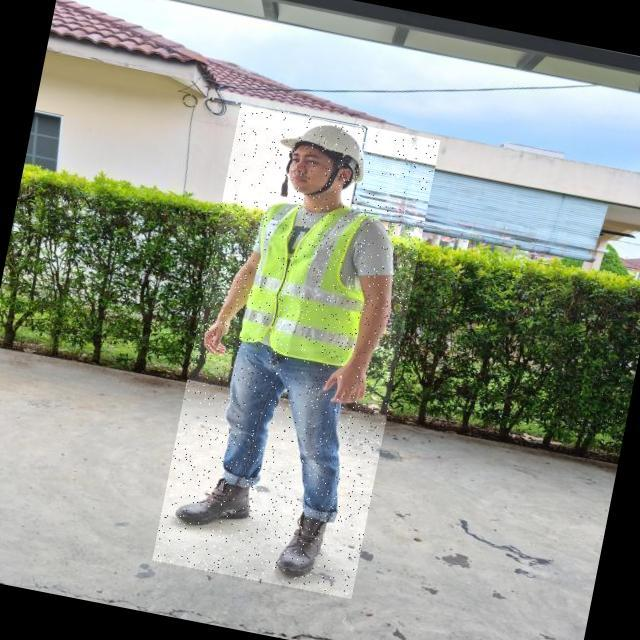Helmet: (273, 117, 375, 189)
Person: (151, 59, 415, 613)
Safety Boot: (170, 472, 260, 541), (271, 510, 330, 586)
Safety Vest: (234, 191, 389, 376)
bare-arms: (316, 357, 373, 418), (185, 315, 237, 376)
